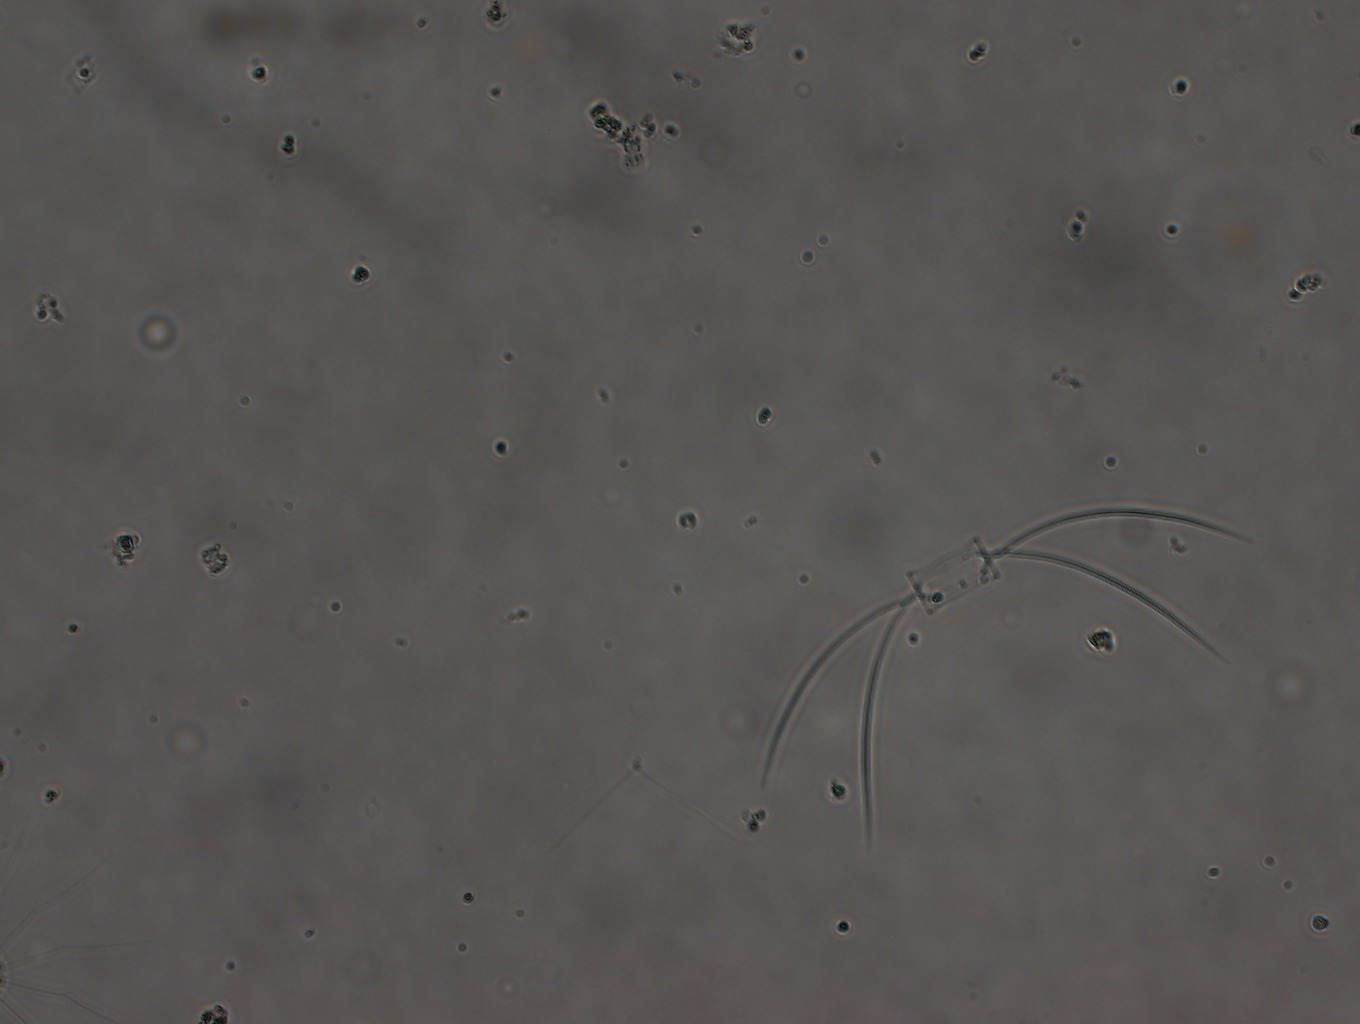chaetoceros: (742, 489, 1274, 847)
